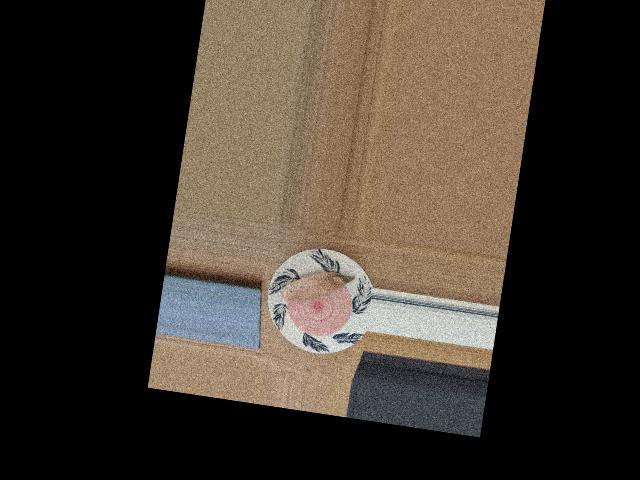sweet_potato: (283, 265, 348, 309)
